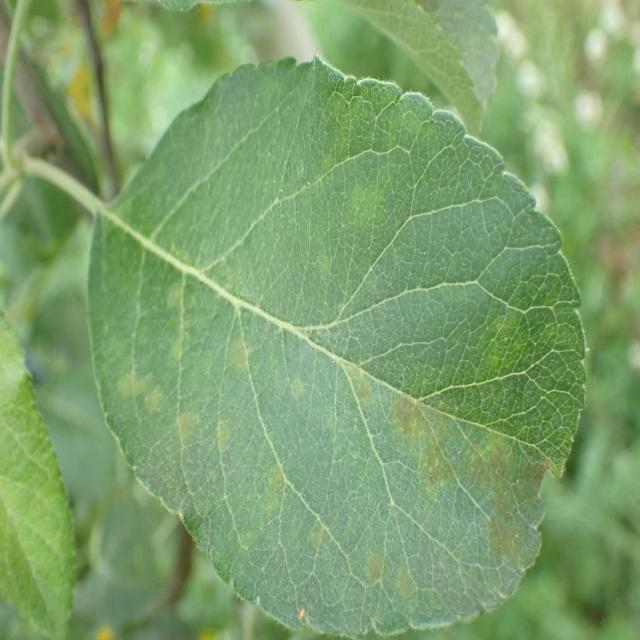scab: (64, 168, 569, 621)
